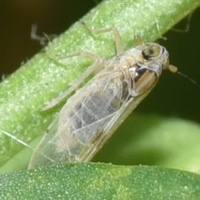insect: (29, 43, 167, 167), (133, 131, 174, 151)
